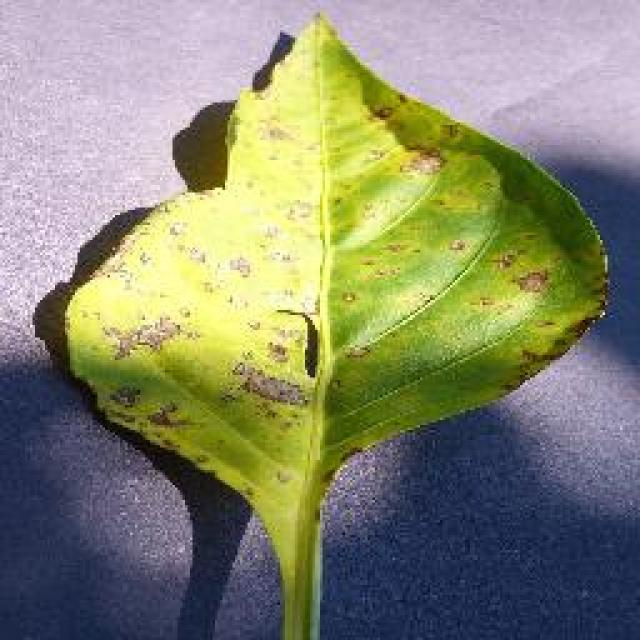Chilli_Bacterial_Spot: (55, 10, 613, 638), (228, 358, 310, 412), (98, 310, 182, 362), (272, 302, 322, 382), (132, 313, 182, 355), (295, 312, 323, 382), (397, 145, 445, 180), (143, 398, 185, 432), (510, 265, 550, 297), (105, 380, 143, 410), (223, 252, 255, 282), (490, 247, 518, 275), (445, 233, 467, 255)
